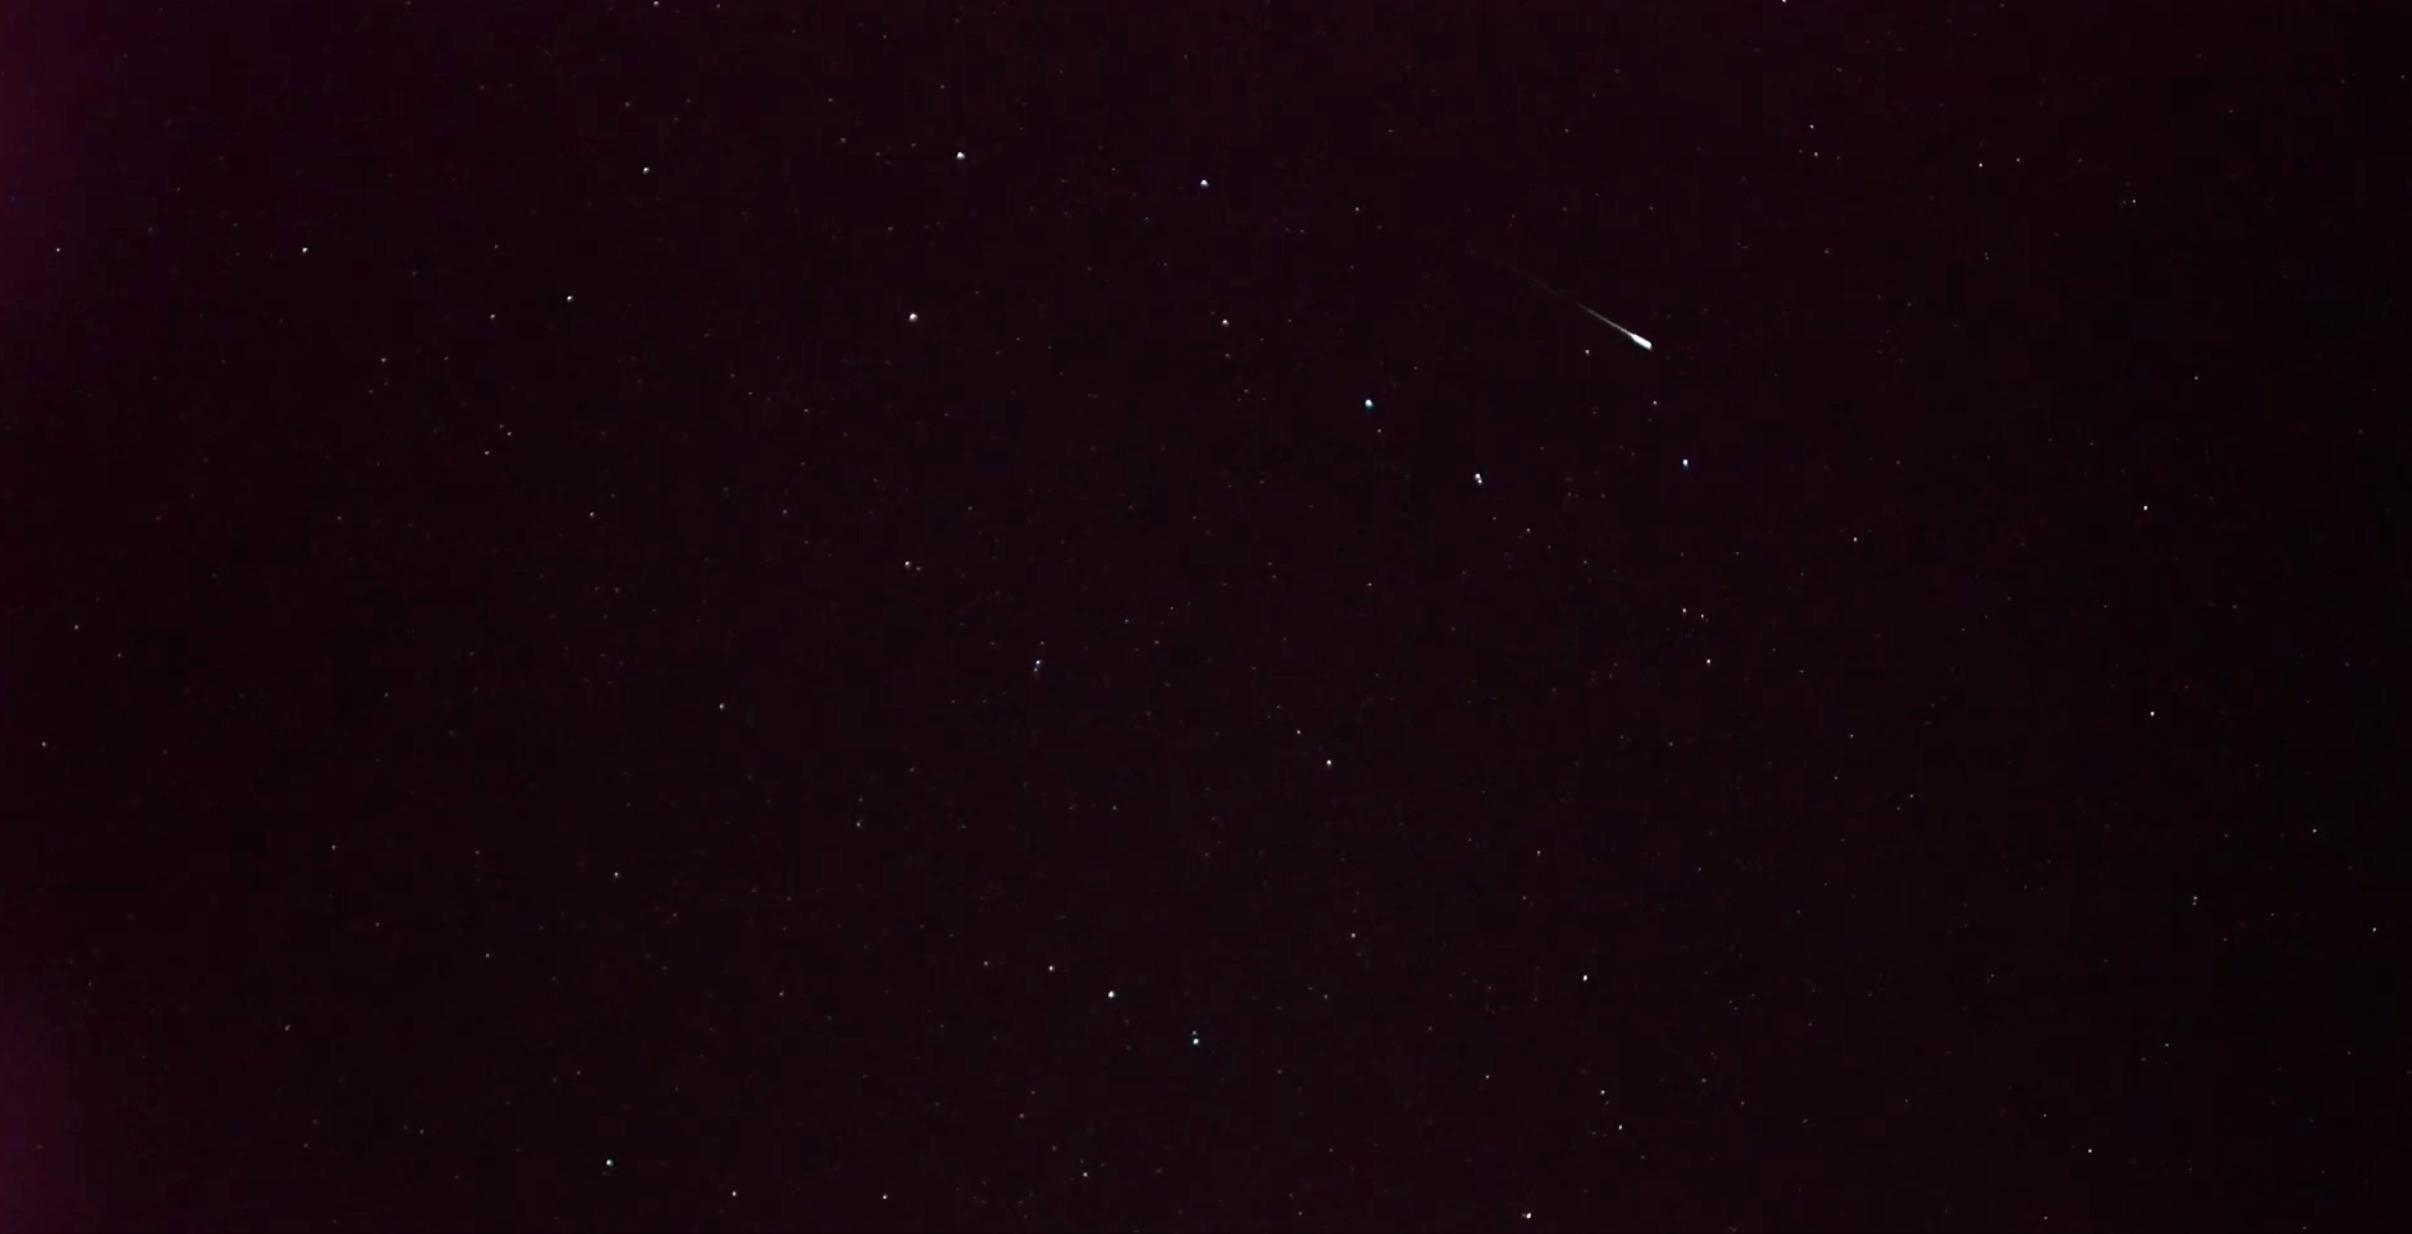meteorite: (1539, 291, 1699, 364)
